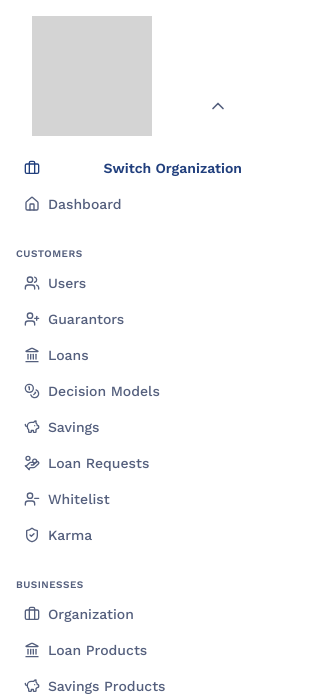
Sidebar Component › hides text labels when collapsed
Click the button with test id "collapse-button".
click(218, 108)  # box [202,95,234,120]
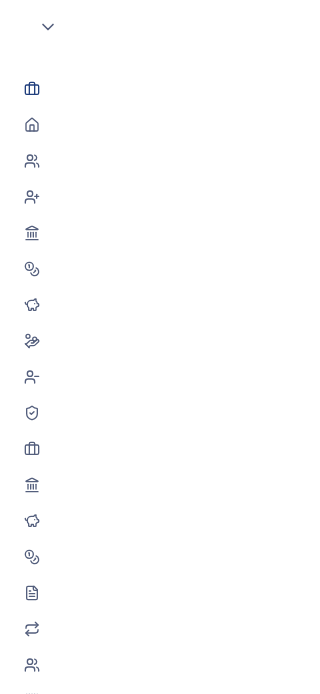
Result: the text "Dashboard" is gone
Result: the text "Users" is gone
